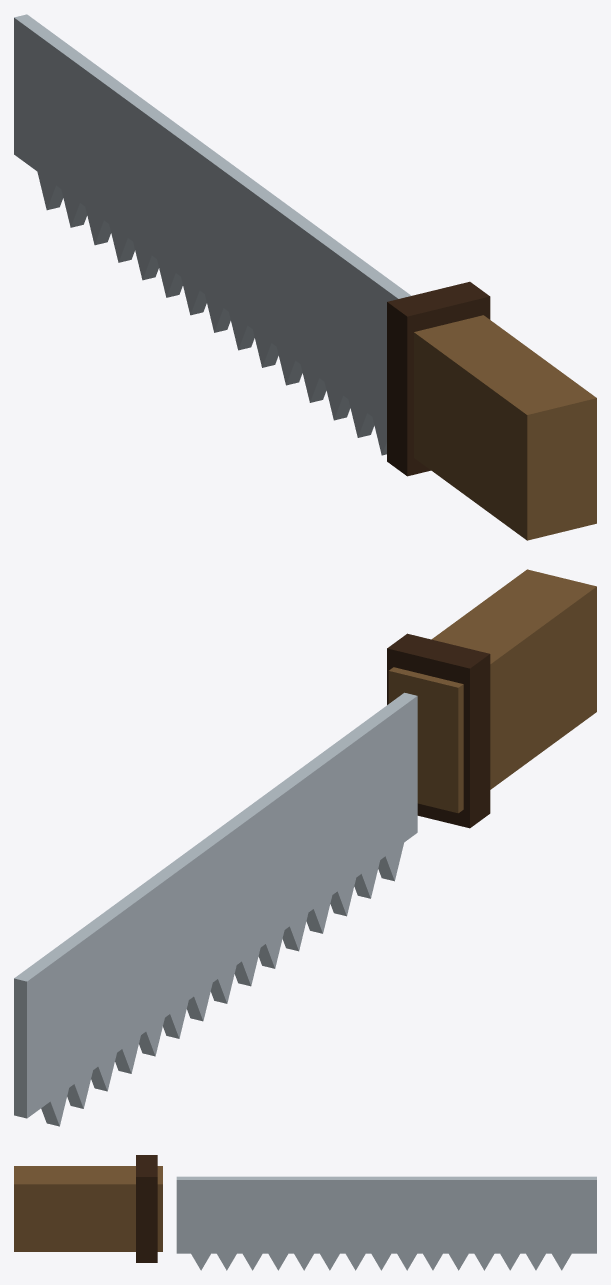
The model's file is Tool_Saw.fbx.
3 renders of one model, top to bottom at view 1: azimuth 30°, elevation 25°; view 2: azimuth 150°, elevation 25°; view 3: azimuth 270°, elevation 25°, orthographic. The views are drawn at different scales.
Visible parts, largest first — view 1: Tool_Saw; view 2: Tool_Saw; view 3: Tool_Saw.
Part boxes in pixels (left/top/right/bottom): Tool_Saw: left=14, top=14, right=596, bottom=540; Tool_Saw: left=14, top=569, right=596, bottom=1126; Tool_Saw: left=14, top=1155, right=596, bottom=1270.
Size of the model in its own units: 3.8 by 8.4 by 43.
